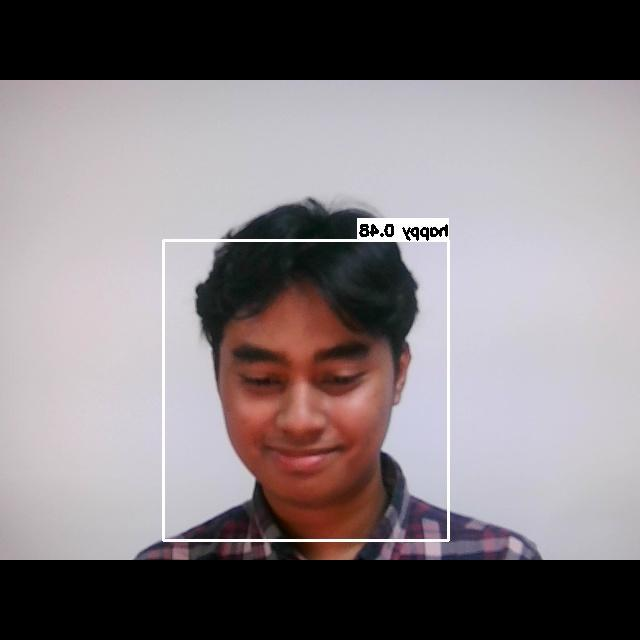Happy: (219, 311, 393, 484)
